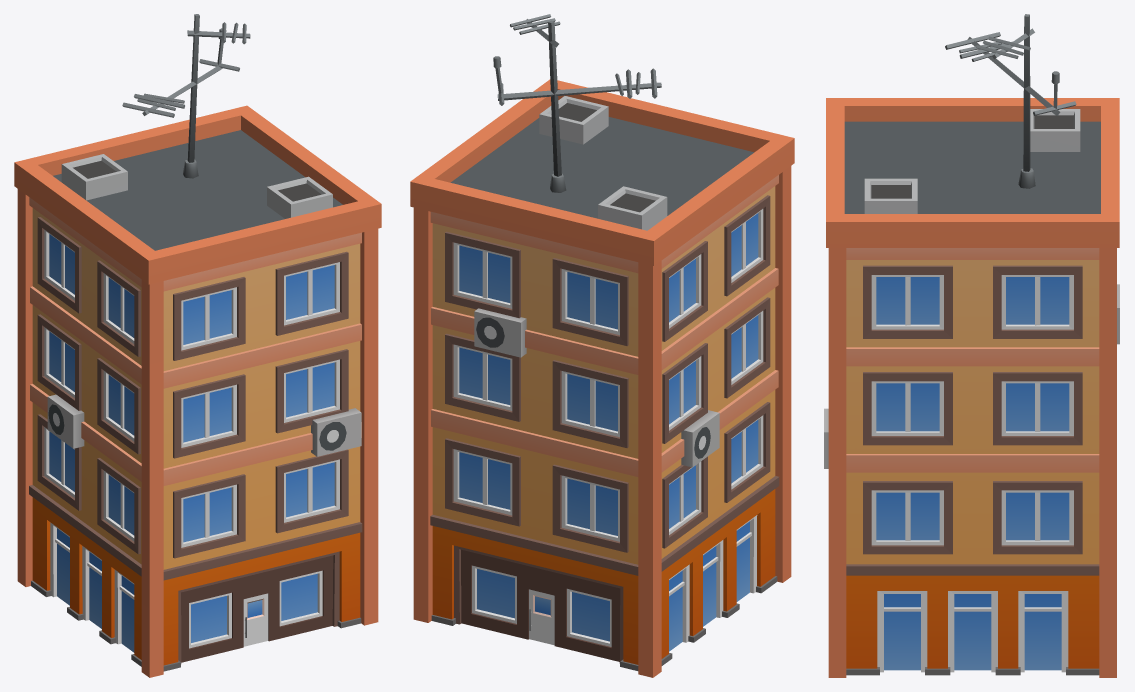
File: residental_building_003.glb
The picture shows the model from 3 angles, left to right: view 1: azimuth 30°, elevation 25°; view 2: azimuth 150°, elevation 25°; view 3: azimuth 270°, elevation 25°; orthographic projection. The views are drawn at different scales.
Visible parts, largest first — view 1: residental_building_003; view 2: residental_building_003; view 3: residental_building_003.
Part boxes in pixels (<box>): residental_building_003: <box>14,14,381,677</box>; residental_building_003: <box>410,14,794,677</box>; residental_building_003: <box>824,14,1119,677</box>.
Size of the model in its own units: 11.21 by 25.67 by 11.24.
Materials: 1 (1 with a texture image).
